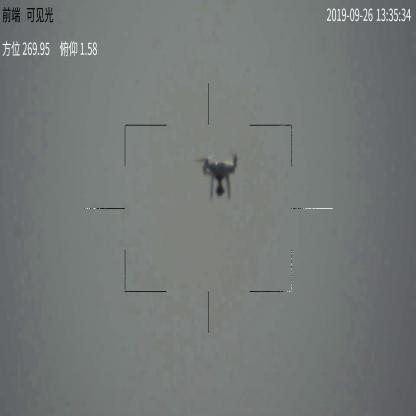uav: (196, 155, 247, 199)
